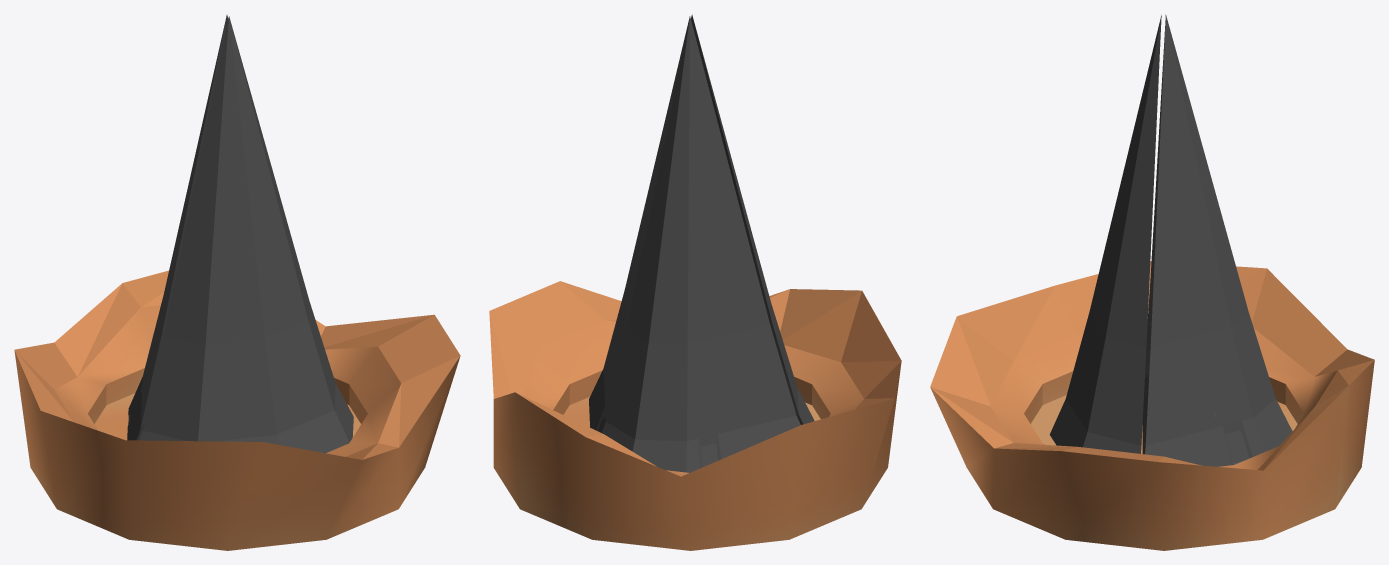
File: Level 2 Bird Beak.fbx
3 renders of one model, left to right at view 1: azimuth 30°, elevation 25°; view 2: azimuth 150°, elevation 25°; view 3: azimuth 270°, elevation 25°, orthographic.
Parts seen in each view (by area): view 1: BentMetal001, BottomBeak001, TopBeak001; view 2: BentMetal001, TopBeak001, BottomBeak001; view 3: BentMetal001, TopBeak001, BottomBeak001.
Part boxes in pixels (<box>): BentMetal001: <box>14,270,460,550</box>; BottomBeak001: <box>139,16,353,453</box>; TopBeak001: <box>127,15,228,440</box>; BentMetal001: <box>489,281,901,550</box>; TopBeak001: <box>589,16,800,472</box>; BottomBeak001: <box>691,14,814,424</box>; BentMetal001: <box>930,261,1374,550</box>; TopBeak001: <box>1142,14,1292,466</box>; BottomBeak001: <box>1049,15,1161,453</box>.
Bounding box in the file's own units: 8.92 × 9.65 × 8.58.
Materials: 1 (1 with a texture image).
